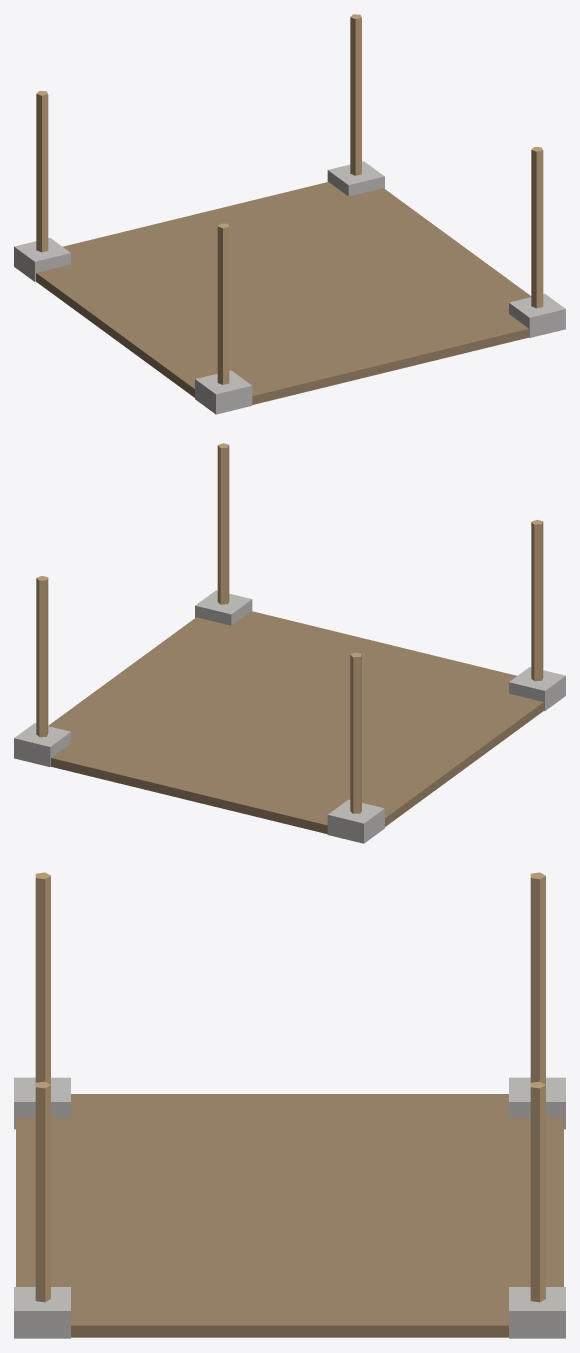
The model's file is building_well_frame.glb.
The picture shows the model from 3 angles, top to bottom: view 1: azimuth 30°, elevation 25°; view 2: azimuth 150°, elevation 25°; view 3: azimuth 270°, elevation 25°; orthographic projection. The views are drawn at different scales.
Visible parts, largest first — view 1: building_well_frame; view 2: building_well_frame; view 3: building_well_frame.
Part boxes in pixels (<box>): building_well_frame: <box>14,14,565,414</box>; building_well_frame: <box>14,443,565,843</box>; building_well_frame: <box>14,872,565,1338</box>.
Size of the model in its own units: 2.9 by 1.4 by 2.9.
